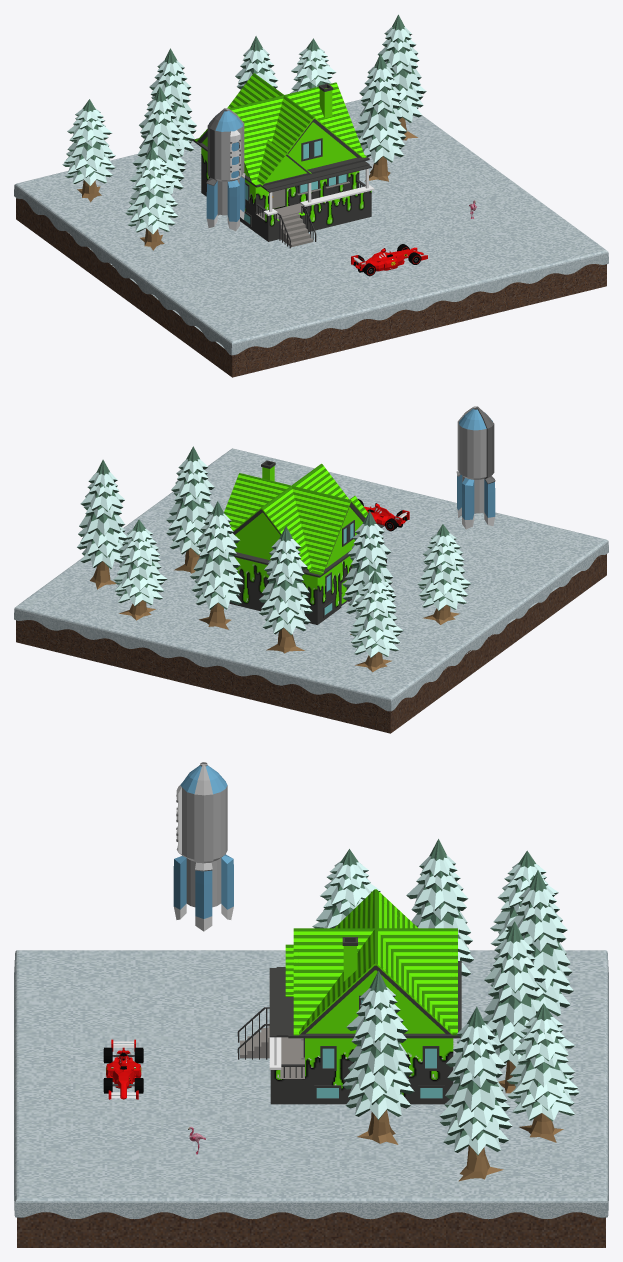
The picture shows the model from 3 angles, top to bottom: view 1: azimuth 30°, elevation 25°; view 2: azimuth 150°, elevation 25°; view 3: azimuth 270°, elevation 25°; orthographic projection. The views are drawn at different scales.
Parts seen in each view (by area): view 1: Cube.003, Cube.754, OBJRANDOM_ROCKETSHIP, VEHICLES_FORMULA_1; view 2: Cube.003, Cube.754, OBJRANDOM_ROCKETSHIP, VEHICLES_FORMULA_1; view 3: Cube.003, Cube.754, OBJRANDOM_ROCKETSHIP, VEHICLES_FORMULA_1.
Boxes of the visible parts, left/top/right/bottom form: Cube.003: left=14, top=14, right=608, bottom=377; Cube.754: left=193, top=73, right=374, bottom=248; OBJRANDOM_ROCKETSHIP: left=206, top=108, right=245, bottom=231; VEHICLES_FORMULA_1: left=351, top=244, right=427, bottom=276; Cube.003: left=14, top=446, right=608, bottom=733; Cube.754: left=224, top=460, right=386, bottom=624; OBJRANDOM_ROCKETSHIP: left=456, top=406, right=495, bottom=529; VEHICLES_FORMULA_1: left=358, top=499, right=409, bottom=531; Cube.003: left=14, top=839, right=608, bottom=1247; Cube.754: left=237, top=889, right=461, bottom=1104; OBJRANDOM_ROCKETSHIP: left=173, top=762, right=233, bottom=931; VEHICLES_FORMULA_1: left=103, top=1039, right=143, bottom=1099.
Bounding box in the file's own units: 4040 × 2124 × 4040.
34 materials, 4 textured.
